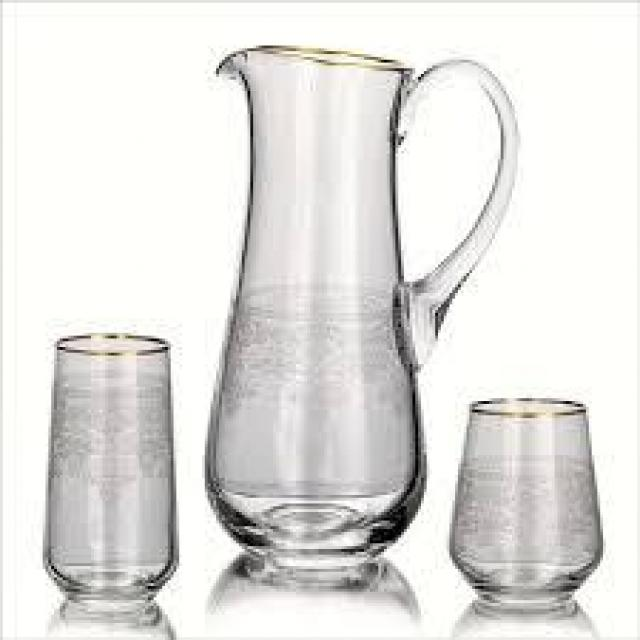non-organic waste: (199, 40, 523, 572), (41, 333, 181, 603), (444, 395, 606, 609)
